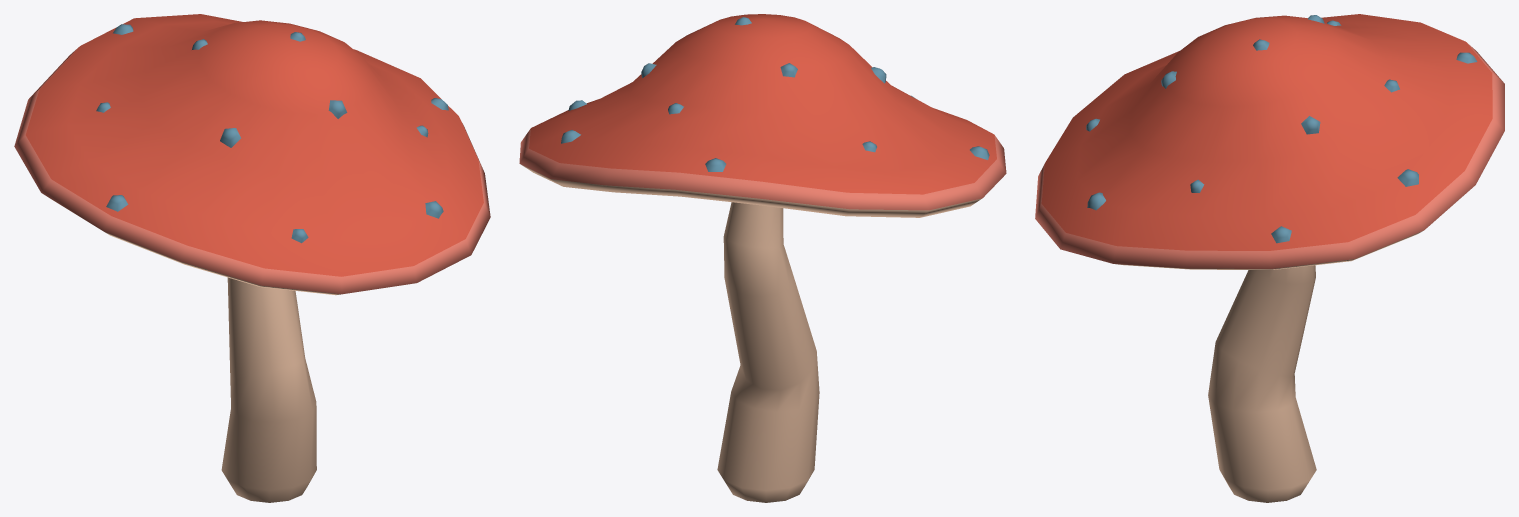
The model's file is Mushroom_1.fbx.
The picture shows the model from 3 angles, left to right: view 1: azimuth 30°, elevation 25°; view 2: azimuth 150°, elevation 25°; view 3: azimuth 270°, elevation 25°; orthographic projection. The views are drawn at different scales.
Parts seen in each view (by area): view 1: Mushroom_1; view 2: Mushroom_1; view 3: Mushroom_1.
Part boxes in pixels (x1,y1,x2,y2): Mushroom_1: (14,14,490,502); Mushroom_1: (519,14,1006,502); Mushroom_1: (1035,14,1504,502).
Size of the model in its own units: 463 by 477 by 443.
